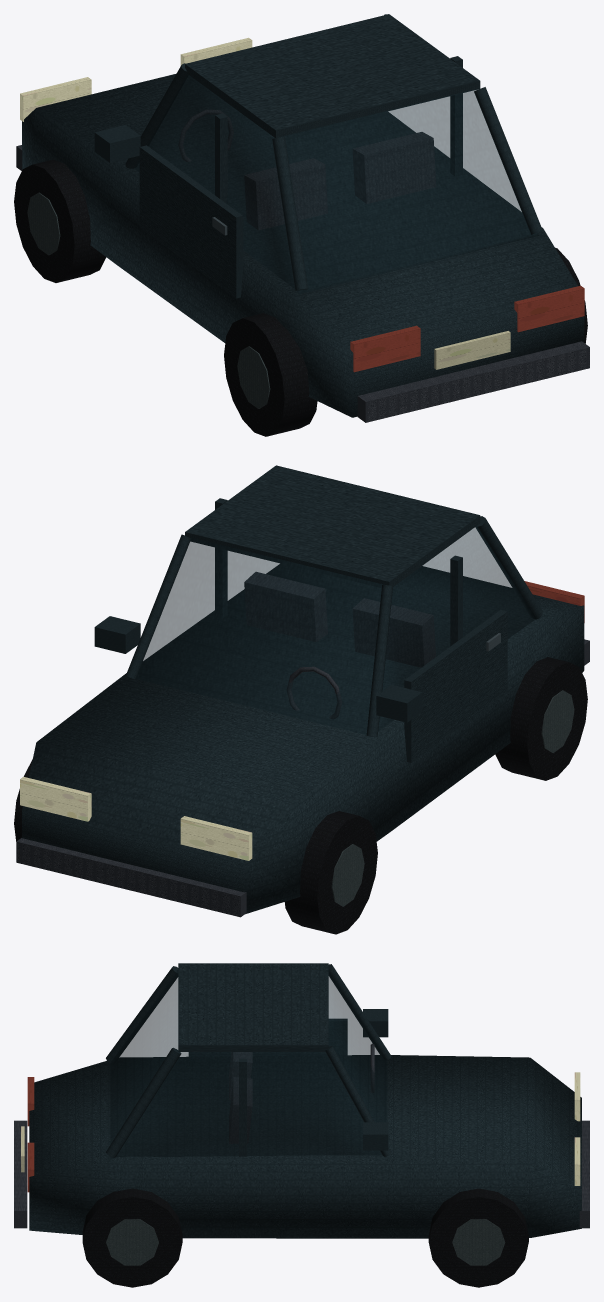
File: car_blender.glb
3 views of the same model, one above another, from view 1: azimuth 30°, elevation 25°; view 2: azimuth 150°, elevation 25°; view 3: azimuth 270°, elevation 25° (orthographic). The views are drawn at different scales.
Parts seen in each view (by area): view 1: _MeshInstance3D_3, _MeshInstance3D_4, _MeshInstance3D_10, _MeshInstance3D_45, _MeshInstance3D_17, _MeshInstance3D_42, _MeshInstance3D_13, _MeshInstance3D_8, _MeshInstance3D_6, _MeshInstance3D_24, _MeshInstance3D_39, _MeshInstance3D_21 (+11 smaller); view 2: _MeshInstance3D_3, _MeshInstance3D_4, _MeshInstance3D_10, _MeshInstance3D_45, _MeshInstance3D_13, _MeshInstance3D_17, _MeshInstance3D_41, _MeshInstance3D_8, _MeshInstance3D_6, _MeshInstance3D_23, _MeshInstance3D_38, _MeshInstance3D_20 (+10 smaller); view 3: _MeshInstance3D_3, _MeshInstance3D_4, _MeshInstance3D_10, _MeshInstance3D_32, _MeshInstance3D_28, _MeshInstance3D_29, _MeshInstance3D_33, _MeshInstance3D_36, _MeshInstance3D_42, _MeshInstance3D_21, _MeshInstance3D_45, _MeshInstance3D_20 (+7 smaller).
Part boxes in pixels (x1,y1,x2,y2): _MeshInstance3D_3: (22, 74, 584, 417); _MeshInstance3D_4: (134, 74, 538, 294); _MeshInstance3D_10: (185, 14, 480, 137); _MeshInstance3D_45: (139, 145, 243, 298); _MeshInstance3D_17: (224, 313, 317, 436); _MeshInstance3D_42: (357, 341, 589, 422); _MeshInstance3D_13: (14, 159, 106, 282); _MeshInstance3D_8: (352, 132, 436, 203); _MeshInstance3D_6: (244, 158, 327, 230); _MeshInstance3D_24: (350, 325, 420, 372); _MeshInstance3D_39: (514, 285, 584, 332); _MeshInstance3D_21: (272, 137, 308, 290); _MeshInstance3D_3: (22, 563, 584, 914); _MeshInstance3D_4: (135, 525, 537, 734); _MeshInstance3D_10: (185, 465, 480, 587); _MeshInstance3D_45: (404, 610, 507, 762); _MeshInstance3D_13: (284, 811, 377, 934); _MeshInstance3D_17: (495, 657, 587, 780); _MeshInstance3D_41: (16, 838, 246, 917); _MeshInstance3D_8: (244, 572, 327, 641); _MeshInstance3D_6: (352, 598, 435, 667); _MeshInstance3D_23: (180, 816, 252, 860); _MeshInstance3D_38: (20, 776, 91, 821); _MeshInstance3D_20: (366, 585, 392, 736); _MeshInstance3D_3: (29, 1055, 581, 1238); _MeshInstance3D_4: (110, 970, 387, 1158); _MeshInstance3D_10: (178, 963, 328, 1051); _MeshInstance3D_32: (82, 1188, 182, 1287); _MeshInstance3D_28: (428, 1188, 528, 1287); _MeshInstance3D_29: (452, 1219, 505, 1265); _MeshInstance3D_33: (106, 1219, 158, 1265); _MeshInstance3D_36: (106, 1047, 181, 1157); _MeshInstance3D_42: (14, 1120, 27, 1228); _MeshInstance3D_21: (106, 966, 178, 1064); _MeshInstance3D_45: (188, 1018, 347, 1056); _MeshInstance3D_20: (328, 964, 391, 1059).
Size of the model in its own units: 2.02 by 1.66 by 3.91.
Materials: 11 (11 with a texture image).
